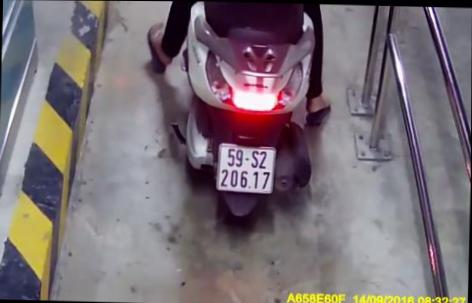LP: (215, 140, 277, 196)
